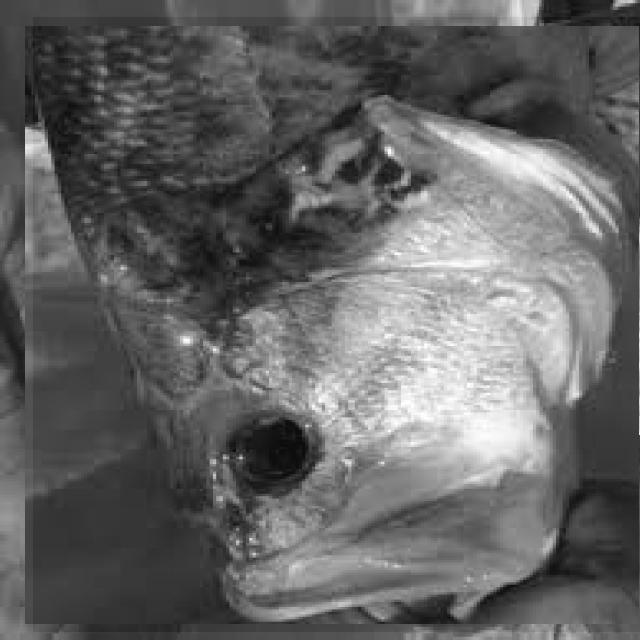EUS Disease: (33, 17, 640, 632), (274, 68, 640, 493)
